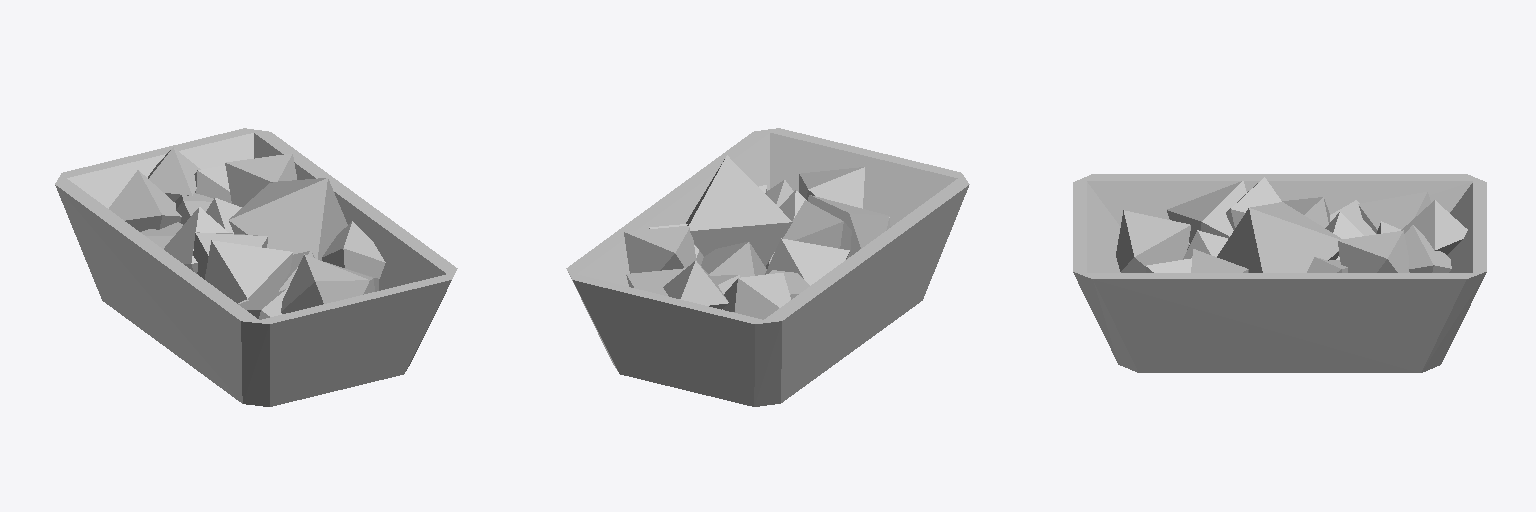
Rendered from dish_002.obj.
3 views of the same model, side by side, from view 1: azimuth 30°, elevation 25°; view 2: azimuth 150°, elevation 25°; view 3: azimuth 270°, elevation 25° (orthographic).
Parts seen in each view (by area): view 1: dish_002; view 2: dish_002; view 3: dish_002.
Part boxes in pixels (bbox=[...]): dish_002: bbox=[55, 128, 457, 406]; dish_002: bbox=[566, 128, 969, 406]; dish_002: bbox=[1073, 174, 1486, 372].
Bounding box in the file's own units: 0.1031 × 0.069 × 0.1709.